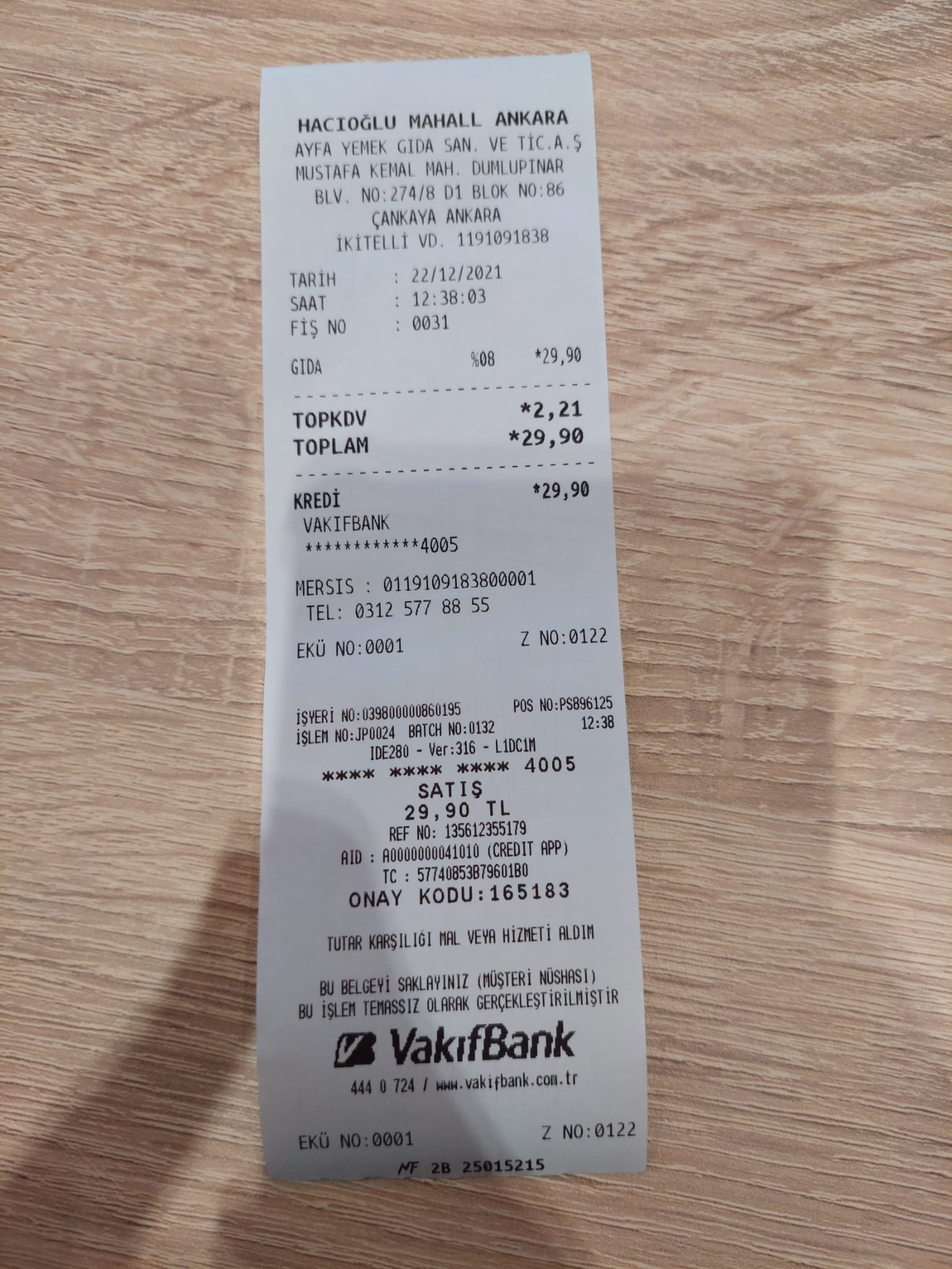date: (517, 422, 590, 457)
price: (405, 261, 507, 288)
workplace: (289, 103, 593, 181)
